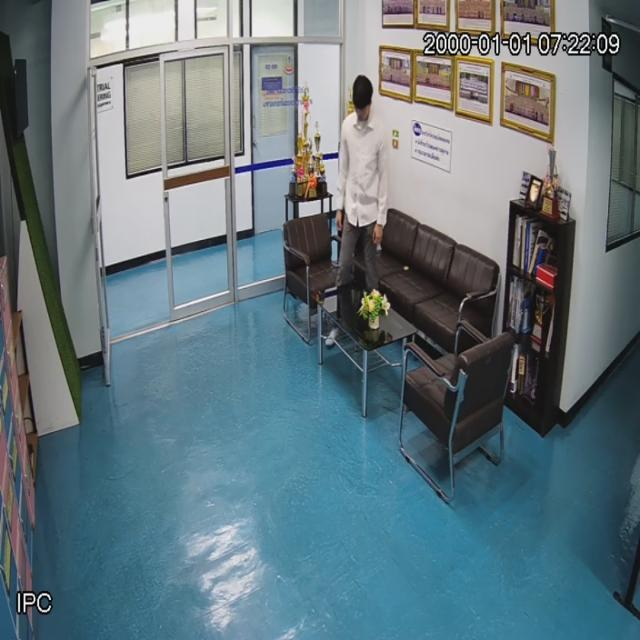normal: (332, 73, 391, 327)
